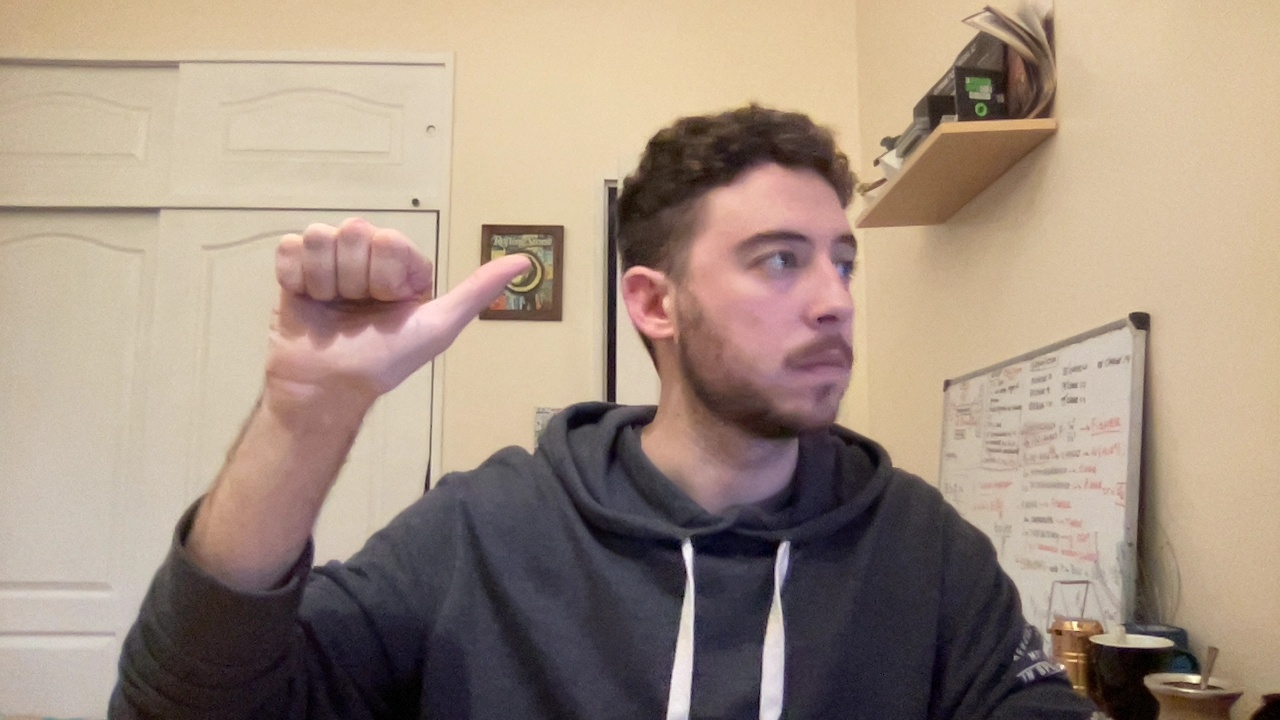pulgar: (243, 203, 551, 405)
